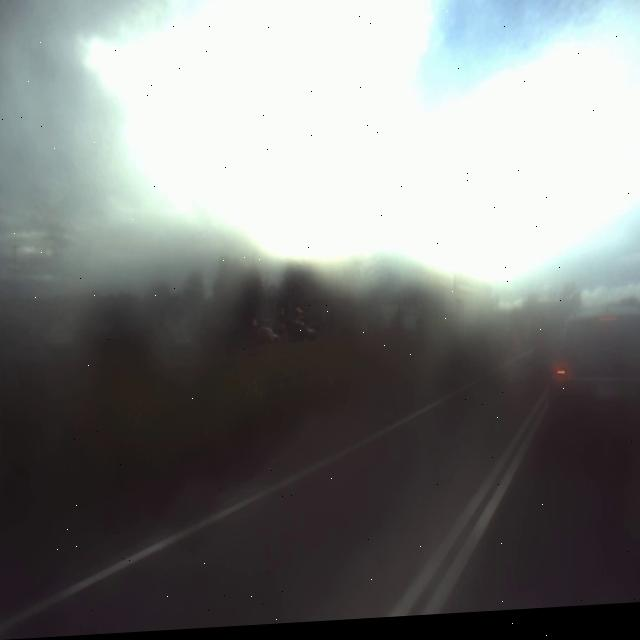car: (552, 291, 640, 464)
